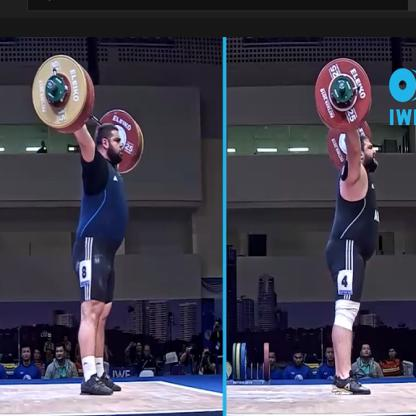Barbell: (26, 44, 102, 144), (311, 52, 376, 139)
